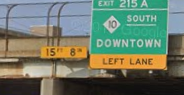1: (67, 46, 76, 57), (44, 47, 49, 57)
5: (49, 46, 56, 58)
overheadsign: (38, 45, 88, 59)
